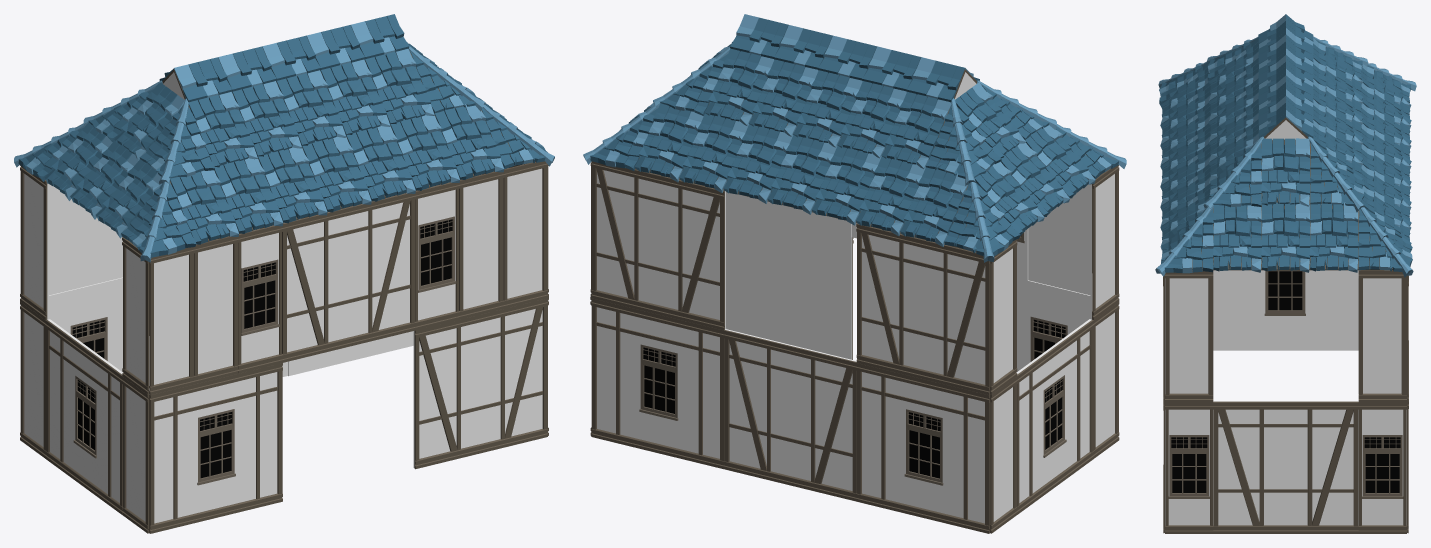
File: House_13_parts.fbx
3 renders of one model, left to right at view 1: azimuth 30°, elevation 25°; view 2: azimuth 150°, elevation 25°; view 3: azimuth 270°, elevation 25°, orthographic. The views are drawn at different scales.
Visible parts, largest first — view 1: WALL_02_2, WALL_02_7, WINDOW_03_2, WINDOW_03_3, WALL_03_12, WALL_03_11, WALL_03_10, WALL_03_9, WINDOW_04_6, WINDOW_04_5, WALL_02_5, WINDOW_03_4 (+32 smaller); view 2: WALL_02_4, WINDOW_03_5, WALL_02_6, WALL_02_5, WINDOW_03_4, WALL_02_2, WINDOW_03_3, WINDOW_03_2, WALL_03_6, WALL_03_4, WALL_03_5, WALL_03_3 (+31 smaller); view 3: WALL_02_3, WINDOW_03_3, WALL_03_8, WINDOW_04_3, WINDOW_04_4, WALL_03_7, ROOF_base_33, ROOF_base_34, ROOF_base_17, ROOF_base_16, ROOF_corner_out_5, ROOF_corner_out_9 (+42 smaller).
Boxes of the visible parts, <box> form: WALL_02_2: <box>413,298,548,469</box>; WALL_02_7: <box>282,193,415,362</box>; WINDOW_03_2: <box>149,363,282,533</box>; WINDOW_03_3: <box>45,319,123,514</box>; WALL_03_12: <box>149,247,194,394</box>; WALL_03_11: <box>194,236,238,384</box>; WALL_03_10: <box>459,171,503,319</box>; WALL_03_9: <box>503,161,548,308</box>; WINDOW_04_6: <box>415,181,459,330</box>; WINDOW_04_5: <box>238,225,282,373</box>; WALL_02_5: <box>20,166,122,297</box>; WINDOW_03_4: <box>20,277,123,436</box>; WALL_02_4: <box>724,329,856,501</box>; WINDOW_03_5: <box>591,298,724,469</box>; WALL_02_6: <box>591,161,725,330</box>; WALL_02_5: <box>856,223,989,394</box>; WINDOW_03_4: <box>856,363,989,533</box>; WALL_02_2: <box>726,206,853,359</box>; WINDOW_03_3: <box>1016,319,1093,514</box>; WINDOW_03_2: <box>1016,278,1118,436</box>; WALL_03_6: <box>1090,165,1119,319</box>; WALL_03_4: <box>990,376,1017,533</box>; WALL_03_5: <box>990,239,1017,394</box>; WALL_03_3: <box>1093,302,1119,458</box>; WALL_02_3: <box>1213,401,1358,533</box>; WINDOW_03_3: <box>1213,270,1358,350</box>; WALL_03_8: <box>1358,270,1406,402</box>; WINDOW_04_3: <box>1165,402,1213,533</box>; WINDOW_04_4: <box>1358,402,1406,533</box>; WALL_03_7: <box>1165,270,1213,402</box>; ROOF_base_33: <box>1261,202,1310,272</box>; ROOF_base_34: <box>1261,138,1310,206</box>; ROOF_base_17: <box>1309,202,1358,272</box>; ROOF_base_16: <box>1213,203,1261,272</box>; ROOF_corner_out_5: <box>1155,201,1215,276</box>; ROOF_corner_out_9: <box>1358,207,1413,277</box>.
Bounding box in the file's own units: 941 × 859 × 541.
